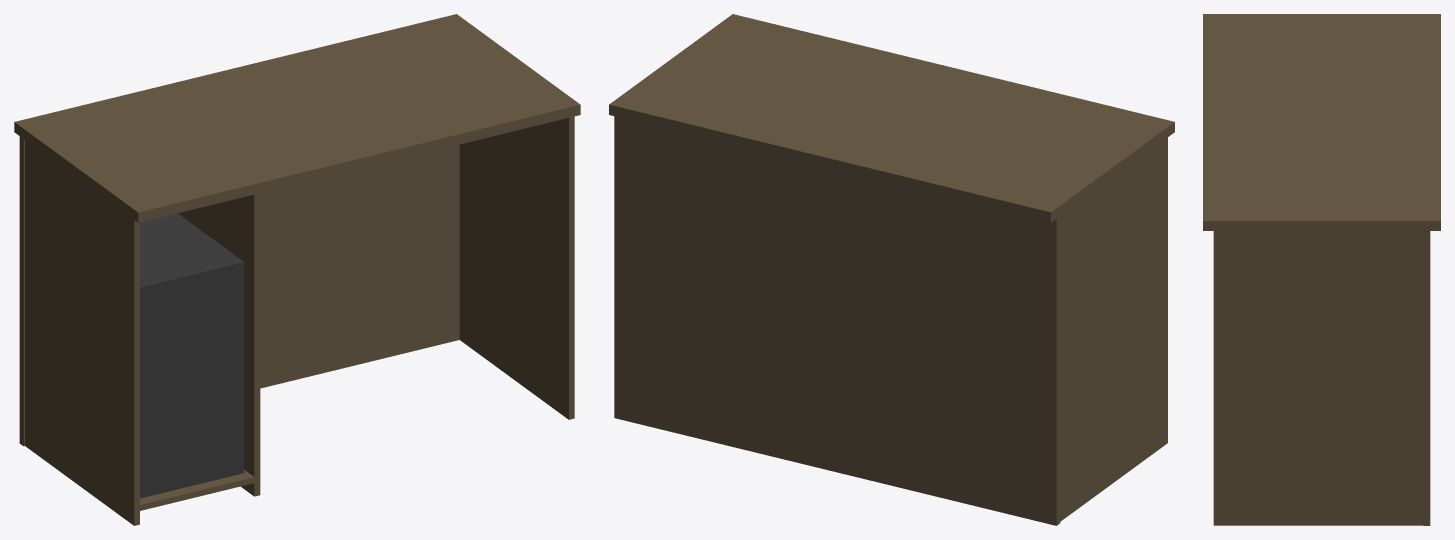
File: stol_8.fbx
3 renders of one model, left to right at view 1: azimuth 30°, elevation 25°; view 2: azimuth 150°, elevation 25°; view 3: azimuth 270°, elevation 25°, orthographic. The views are drawn at different scales.
Parts seen in each view (by area): view 1: stol_5.002; view 2: stol_5.002; view 3: stol_5.002.
Part boxes in pixels (x1=…): stol_5.002: x1=14, y1=14, x2=580, y2=525; stol_5.002: x1=609, y1=14, x2=1174, y2=525; stol_5.002: x1=1203, y1=14, x2=1440, y2=525.
Bounding box in the file's own units: 122 × 83.74 × 59.18.
